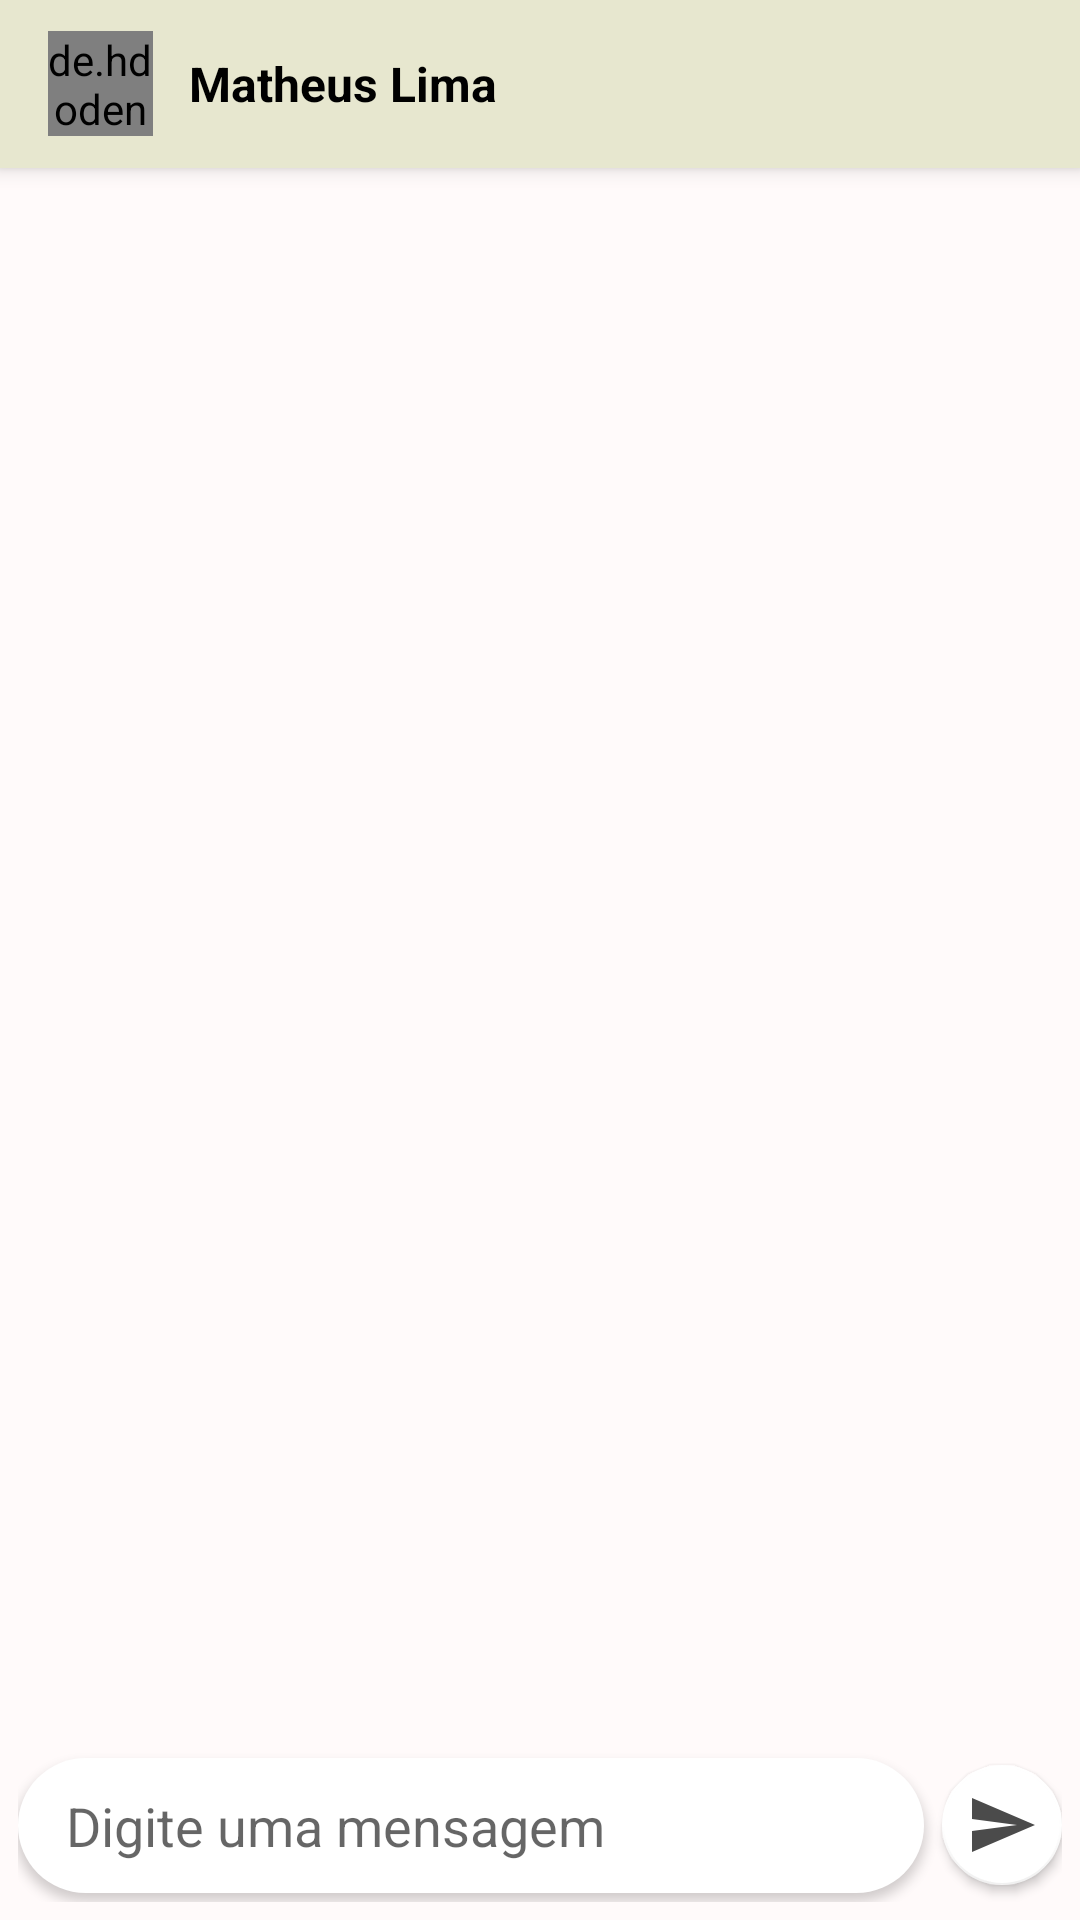

Screen size 1080 x 1920. Icon name, then its box in pixels as [left=x1, top=y1, right=x2, bottom=y2]:
enviar preto: [left=944, top=1798, right=1035, bottom=1852]
